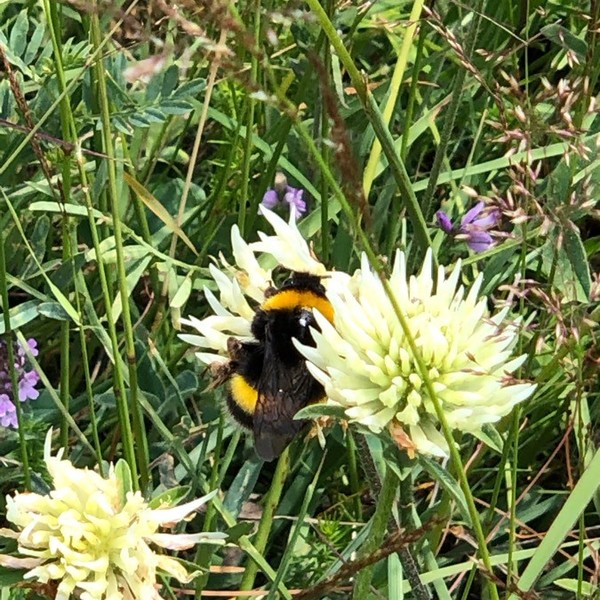obstacle: (81, 69, 507, 555)
